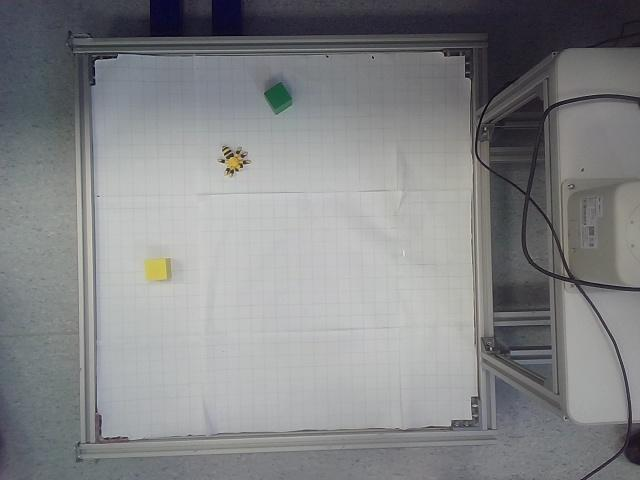frelon: (217, 146, 252, 178)
